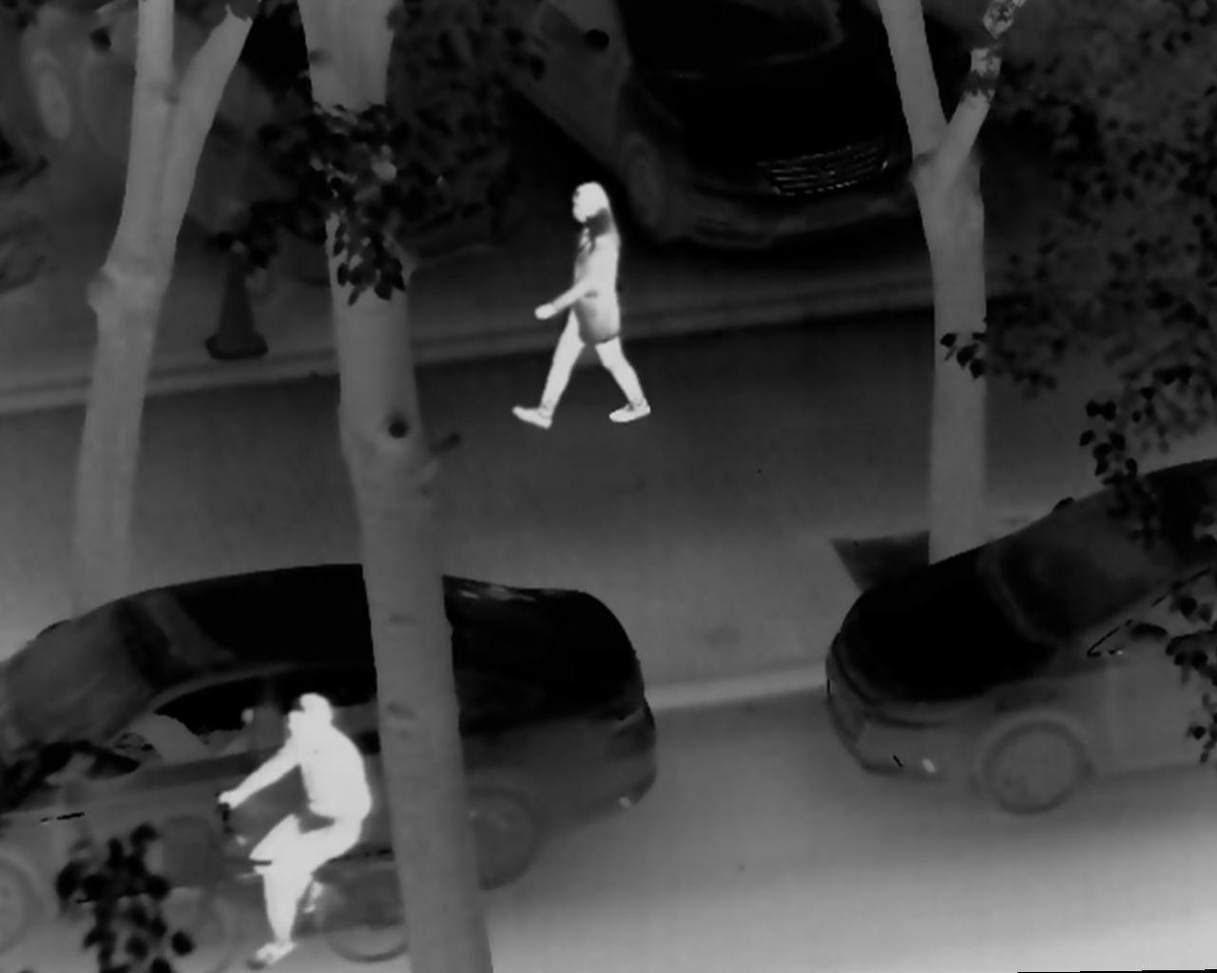person: (216, 686, 377, 970), (510, 182, 657, 437)
